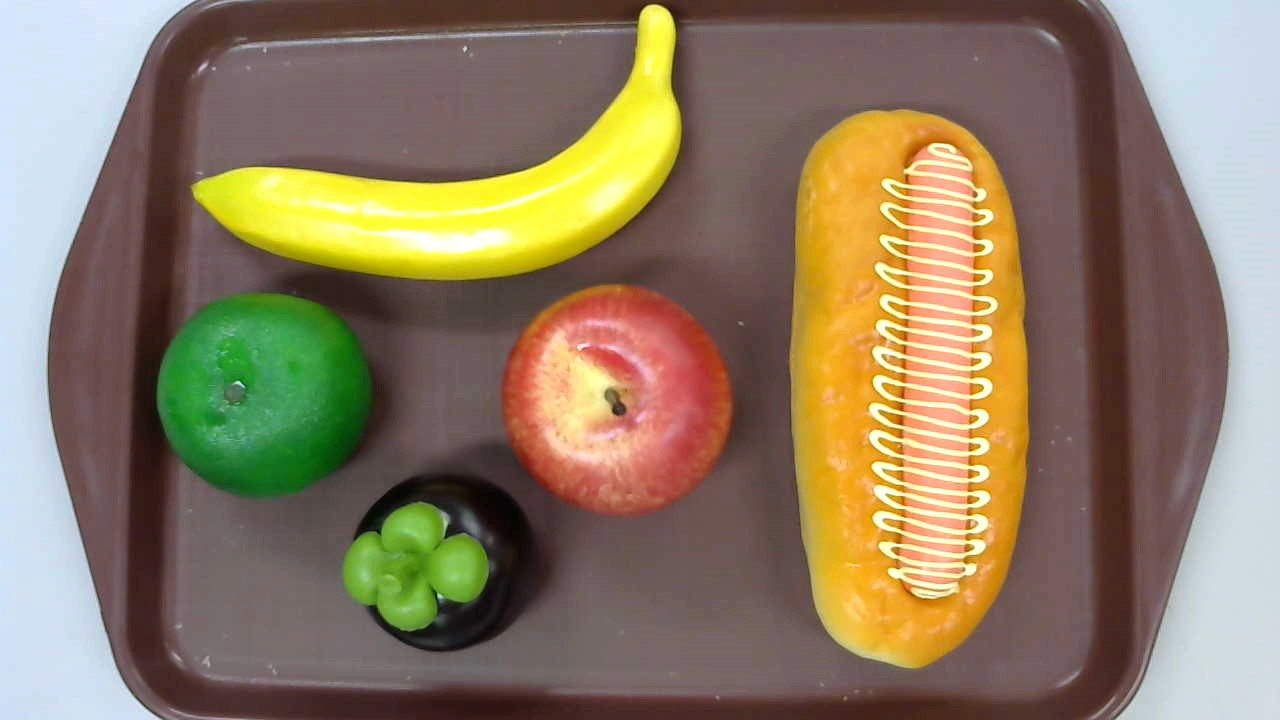banana: (191, 3, 683, 281)
green orange: (156, 293, 372, 497)
hot dog: (788, 107, 1028, 670)
mangosteen: (343, 469, 538, 654)
red apple: (501, 284, 734, 516)
